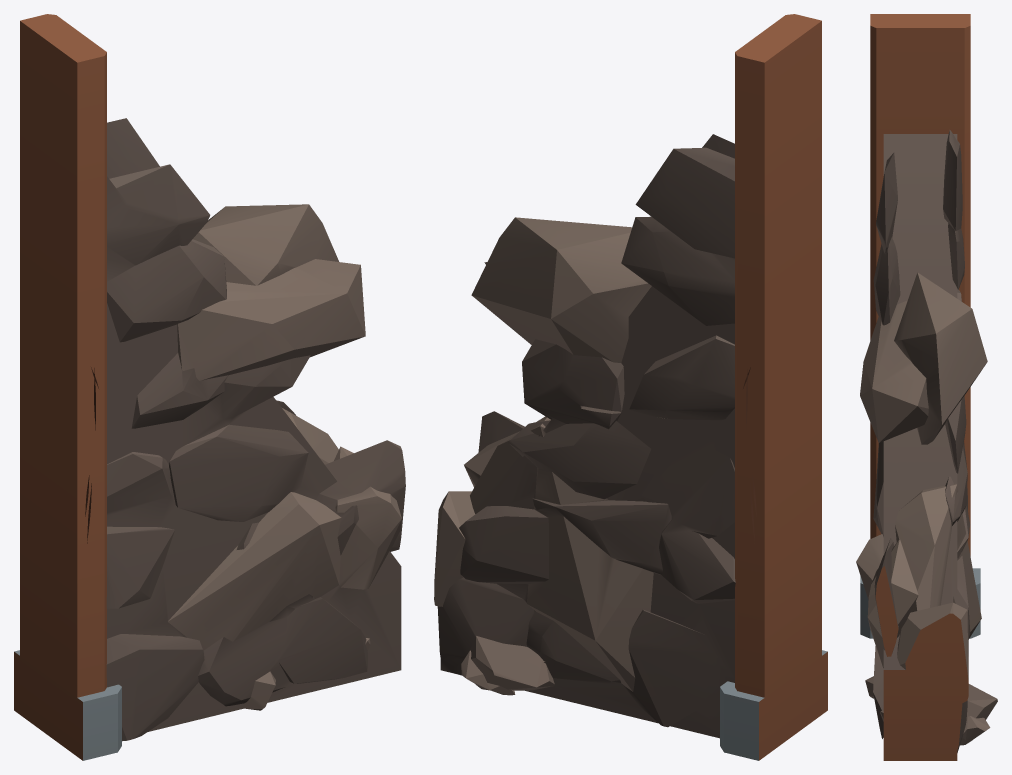
Rendered from wall_cave_half_endcap_B.glb.
3 renders of one model, left to right at view 1: azimuth 30°, elevation 25°; view 2: azimuth 150°, elevation 25°; view 3: azimuth 270°, elevation 25°, orthographic. The views are drawn at different scales.
Visible parts, largest first — view 1: Item; view 2: Item; view 3: Item.
Part boxes in pixels (box(x1,y1,x2,y2)): Item: box(14, 14, 405, 760); Item: box(434, 14, 827, 760); Item: box(856, 14, 997, 760).
Size of the model in its own units: 2 by 4 by 0.8497.
Materials: 1 (1 with a texture image).
